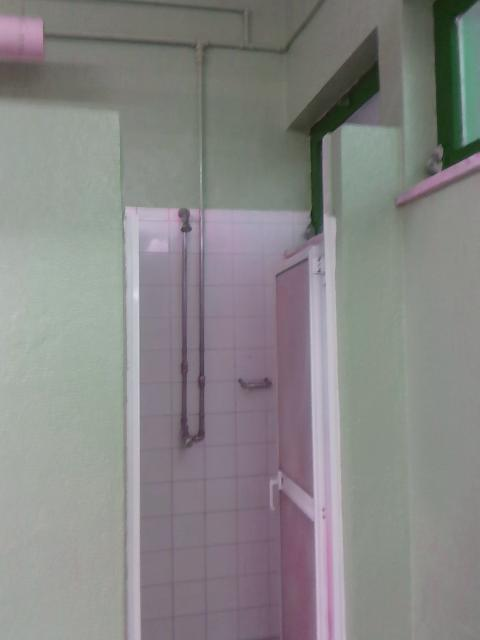open_door: (121, 207, 348, 639)
